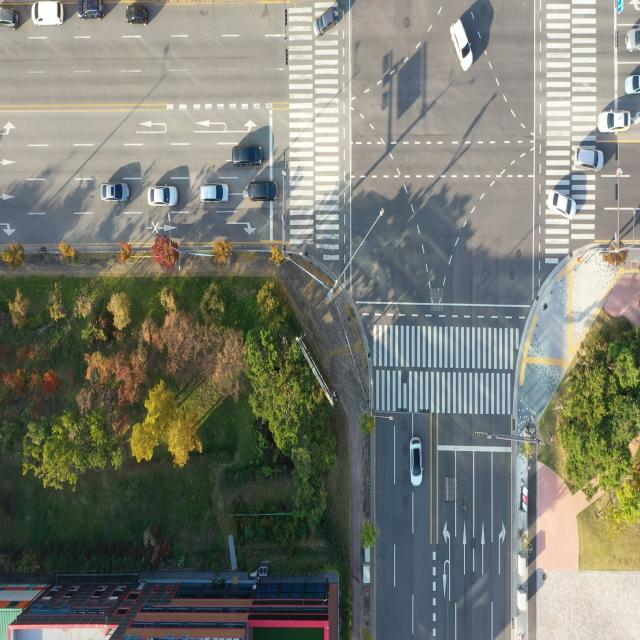car: (449, 18, 477, 77), (596, 107, 632, 132), (31, 1, 63, 29), (309, 5, 337, 35), (548, 189, 576, 218), (410, 438, 424, 489), (233, 145, 262, 167), (251, 181, 279, 203), (625, 63, 640, 104), (77, 0, 106, 21), (102, 182, 129, 204), (200, 183, 228, 204), (148, 188, 177, 208), (578, 147, 603, 170), (0, 5, 21, 31), (126, 4, 150, 24), (625, 29, 640, 52)
